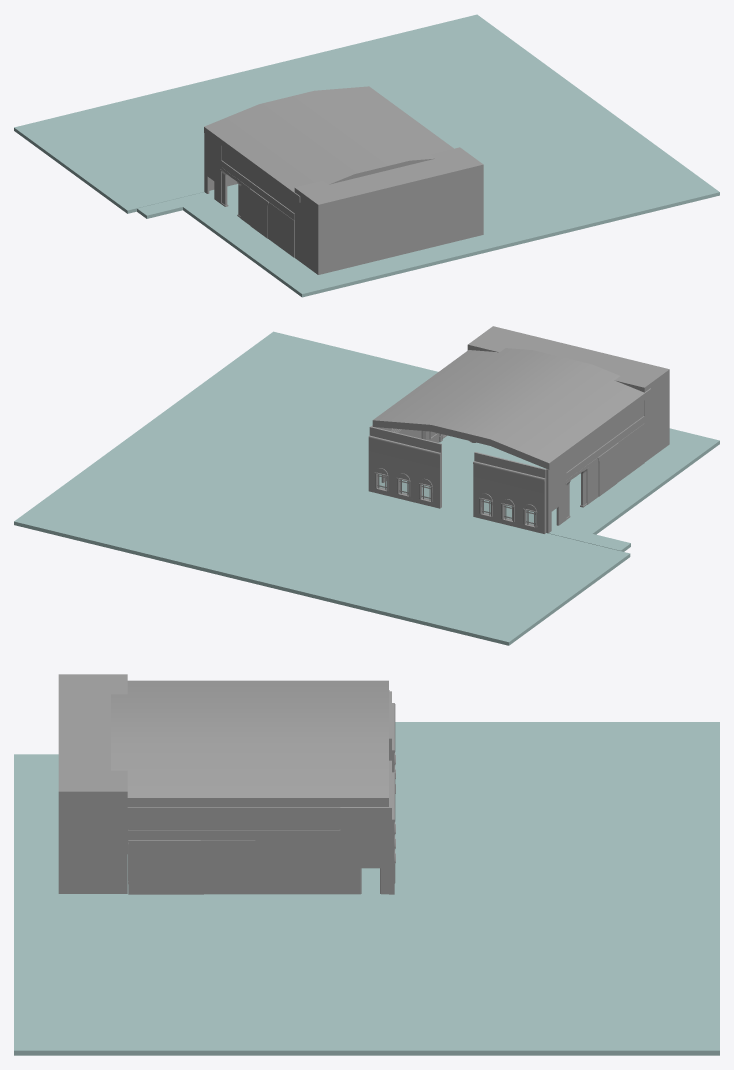
File: Lv1GarvityChange.fbx
The picture shows the model from 3 angles, top to bottom: view 1: azimuth 30°, elevation 25°; view 2: azimuth 150°, elevation 25°; view 3: azimuth 270°, elevation 25°; orthographic projection. The views are drawn at different scales.
Parts seen in each view (by area): view 1: polySurface2431; view 2: polySurface2431; view 3: polySurface2431.
Boxes of the visible parts, x1,y1,x2,y2 form: polySurface2431: [14, 14, 719, 297]; polySurface2431: [14, 326, 719, 645]; polySurface2431: [14, 674, 719, 1055].
Size of the model in its own units: 9010 by 1449 by 8180.
